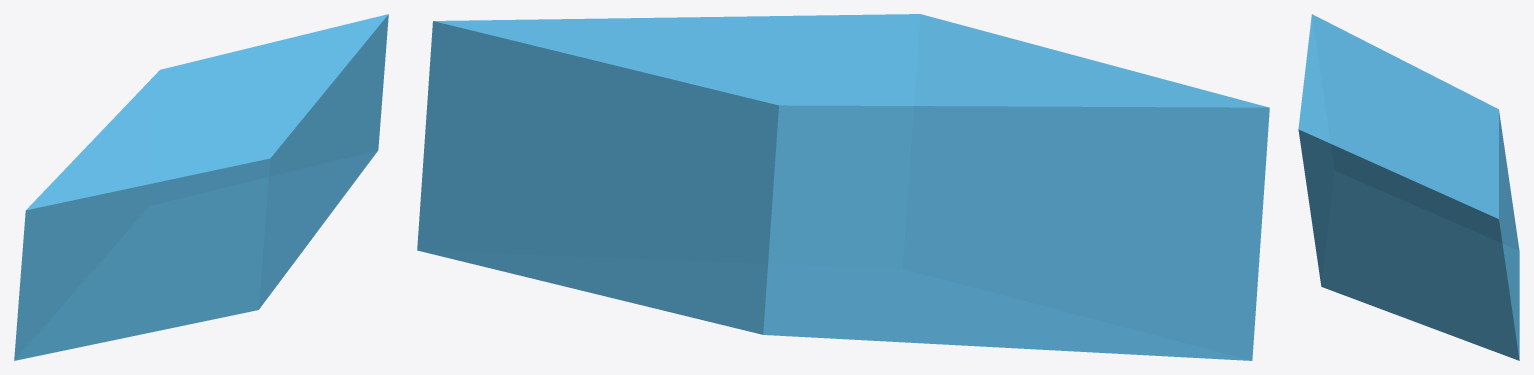
File: Event_420604493_HBrechit_20.fbx
3 renders of one model, left to right at view 1: azimuth 30°, elevation 25°; view 2: azimuth 150°, elevation 25°; view 3: azimuth 270°, elevation 25°, orthographic. The views are drawn at different scales.
Parts seen in each view (by area): view 1: Model; view 2: Model; view 3: Model.
Boxes of the visible parts, x1,y1,x2,y2 form: Model: (14, 14, 388, 360); Model: (417, 14, 1269, 360); Model: (1298, 14, 1519, 360).
Bounding box in the file's own units: 1.33 × 0.4872 × 0.5629.
